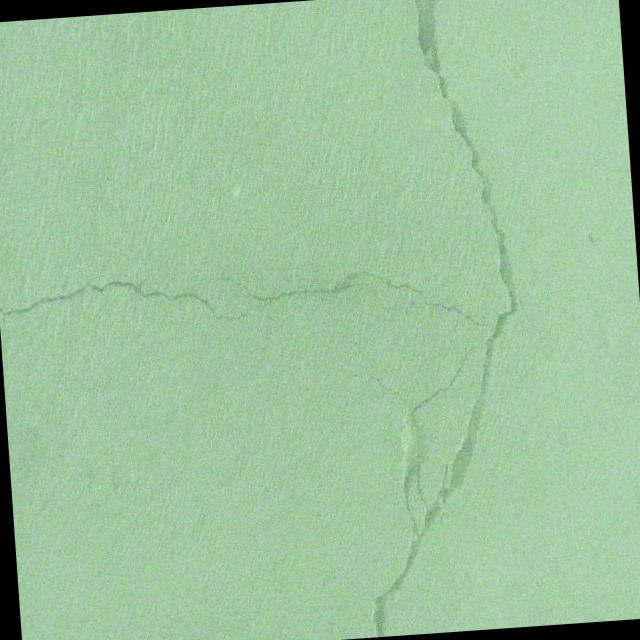crack: (190, 0, 541, 640), (0, 269, 249, 336)
